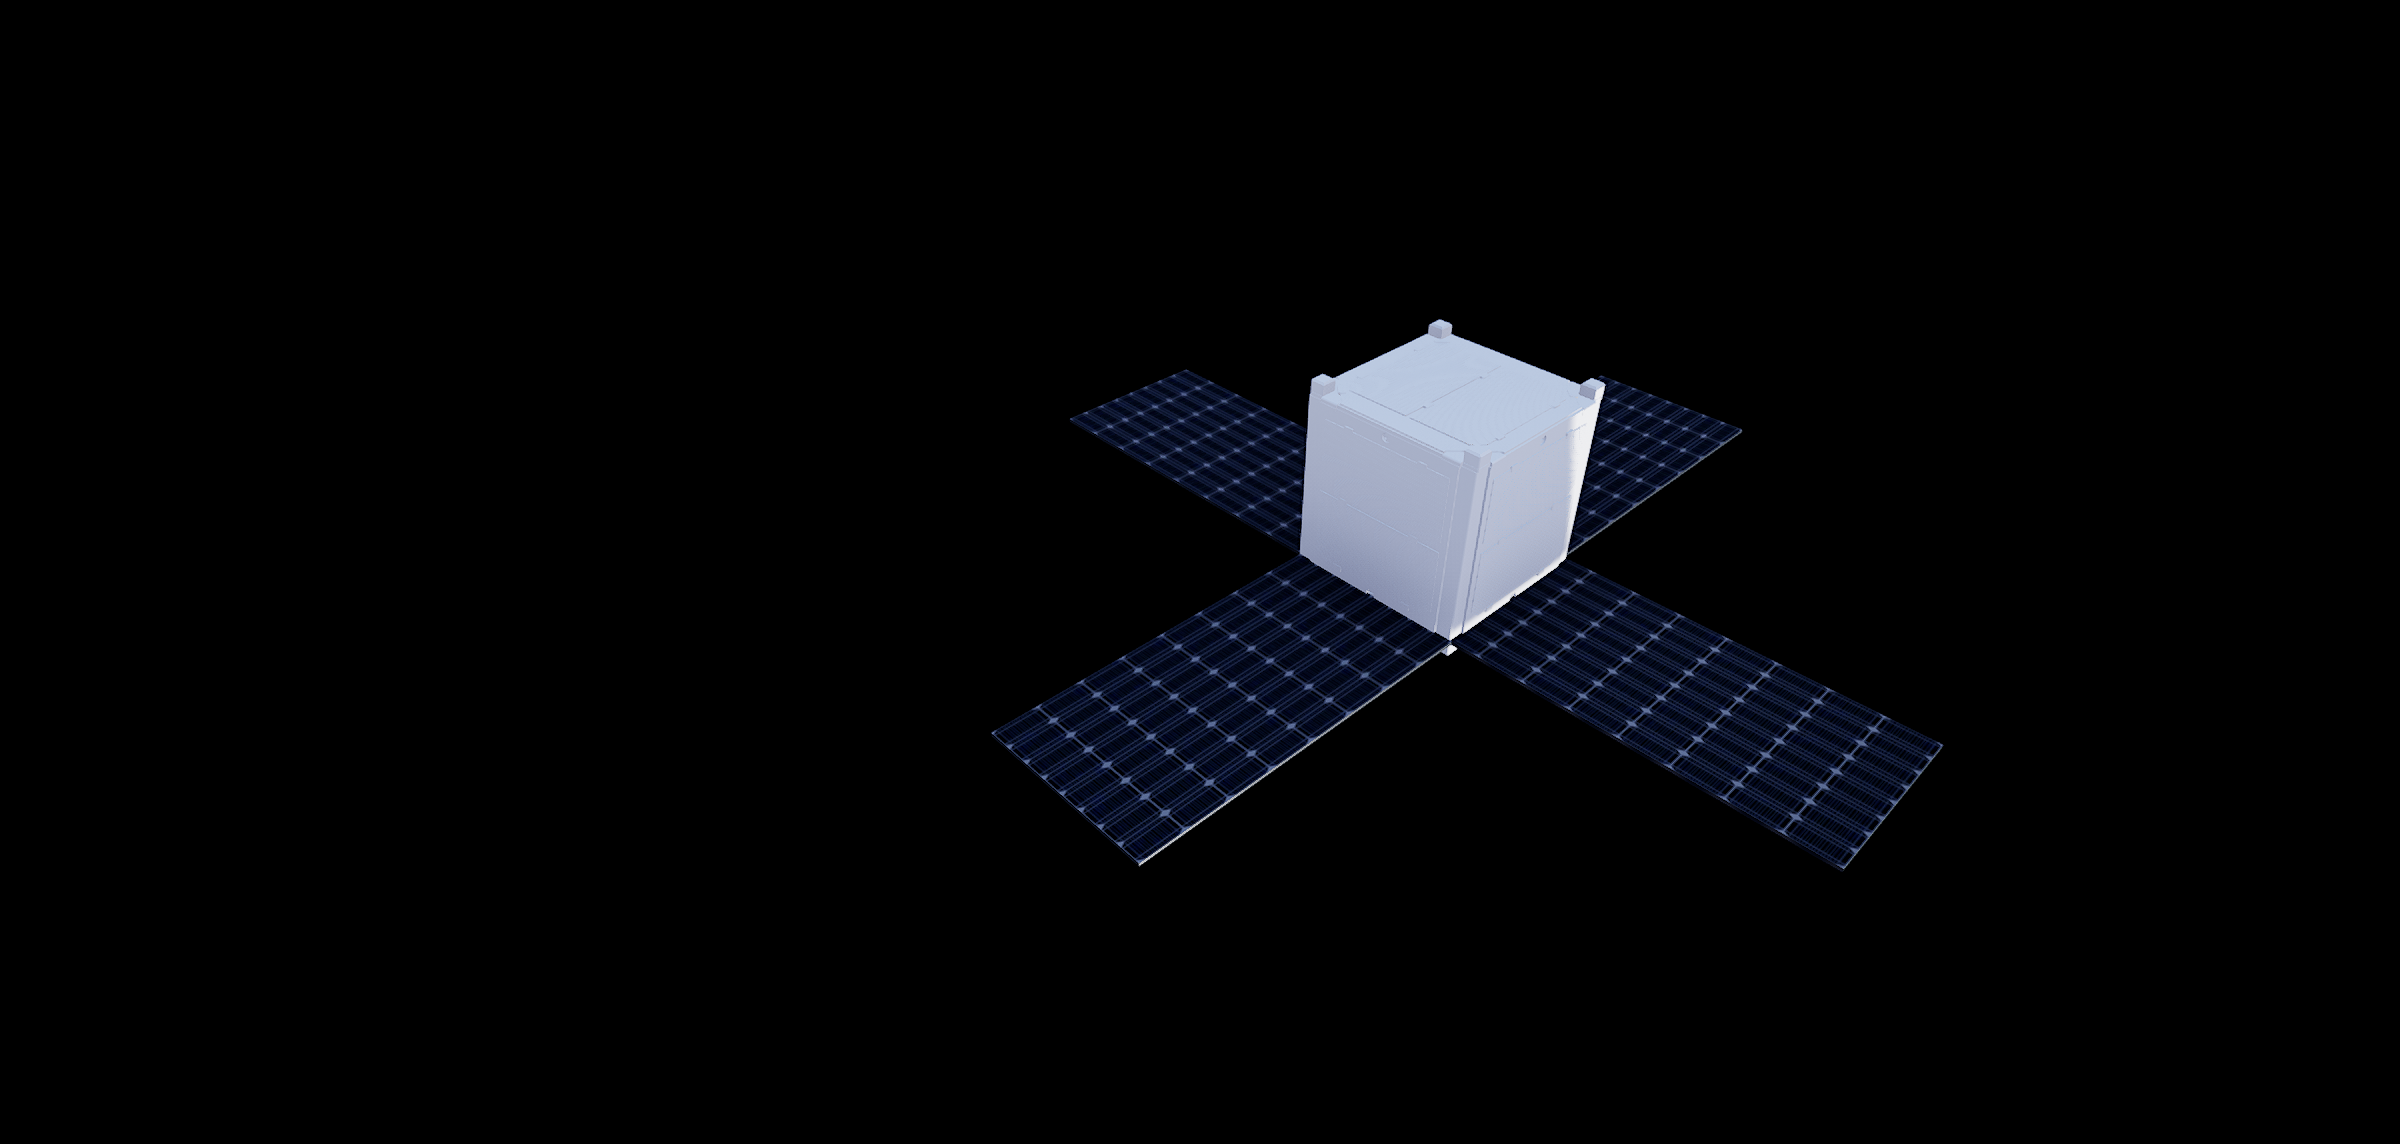satellite: (909, 297, 1981, 917)
